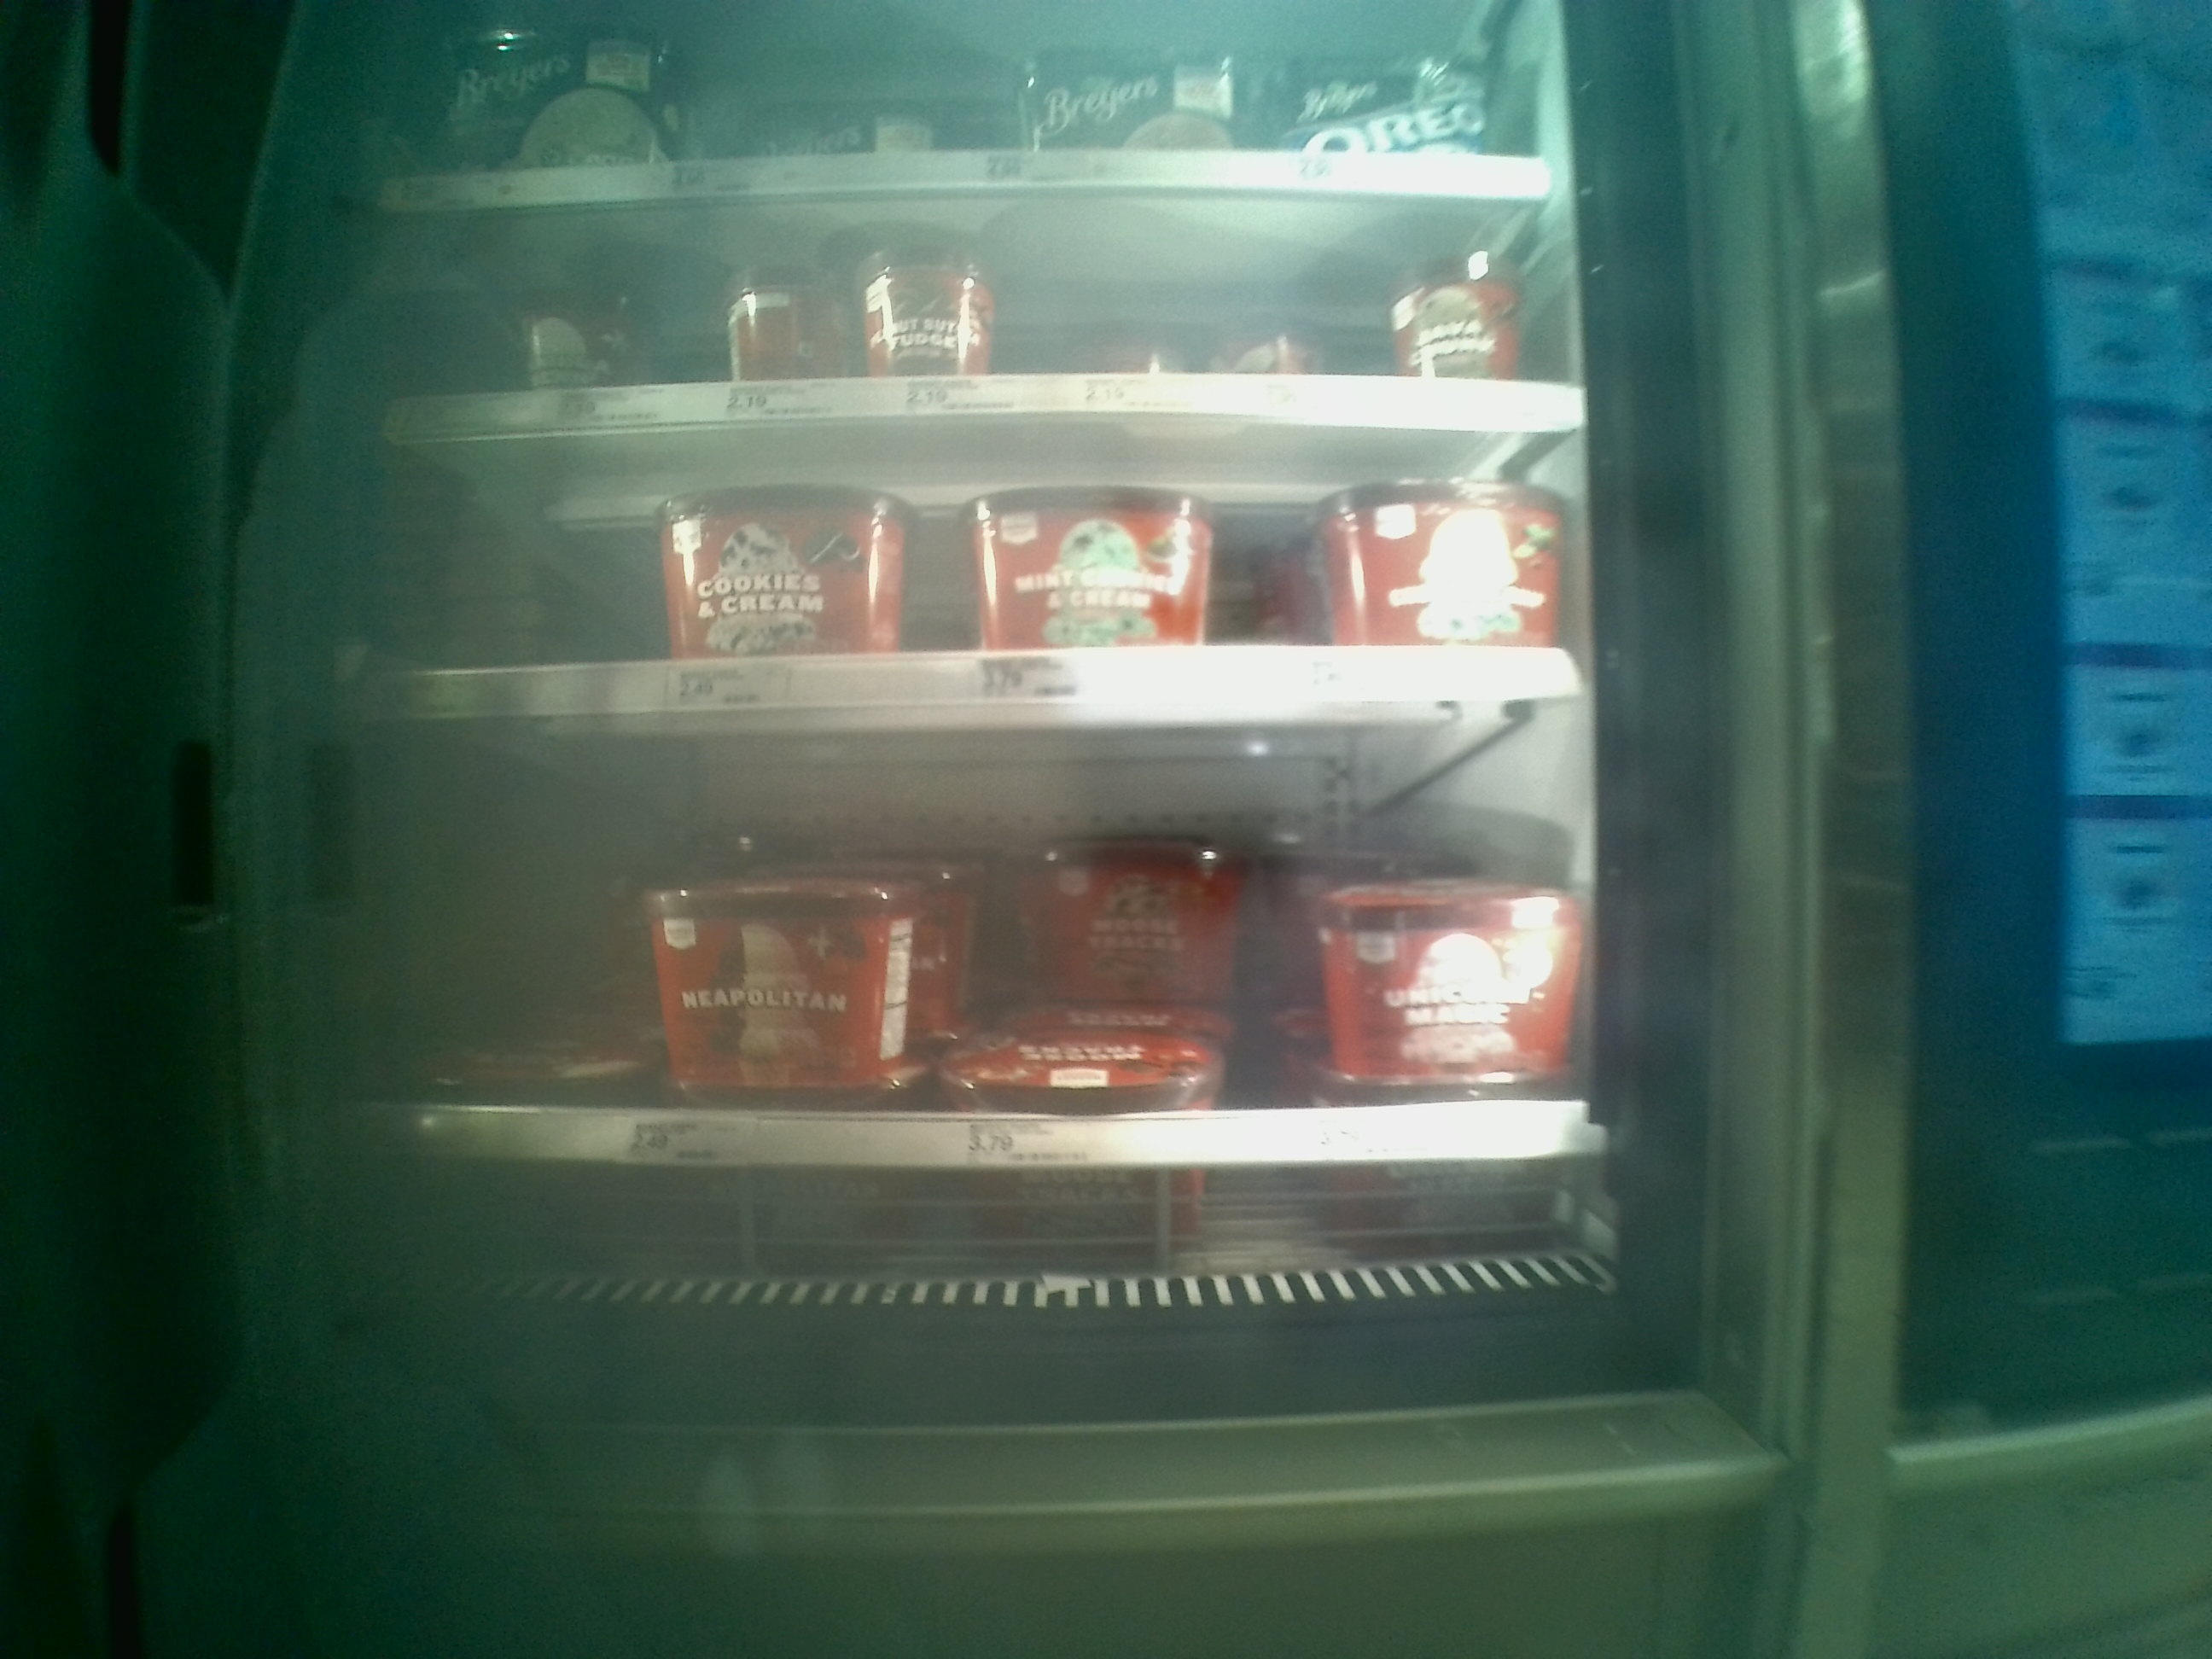shelf: (374, 716, 1599, 1173), (371, 415, 1588, 713), (361, 207, 1590, 415)
